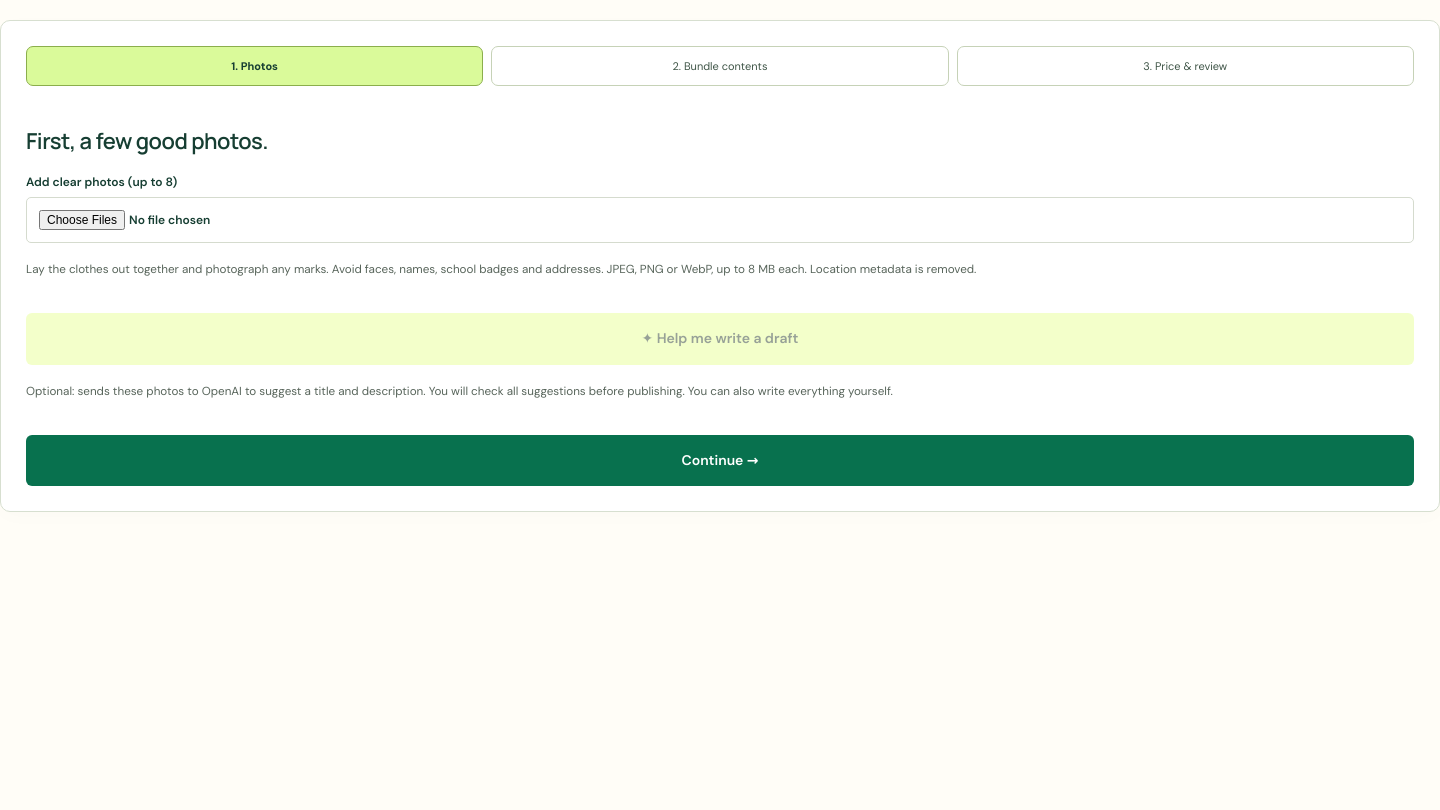
Test: Guided seller workflow › cannot advance without a real uploaded photo
This screenshot has width=1440, height=810.
Click the button "Continue →". click: coordinates (720, 460)
box: [26,435,1414,486]
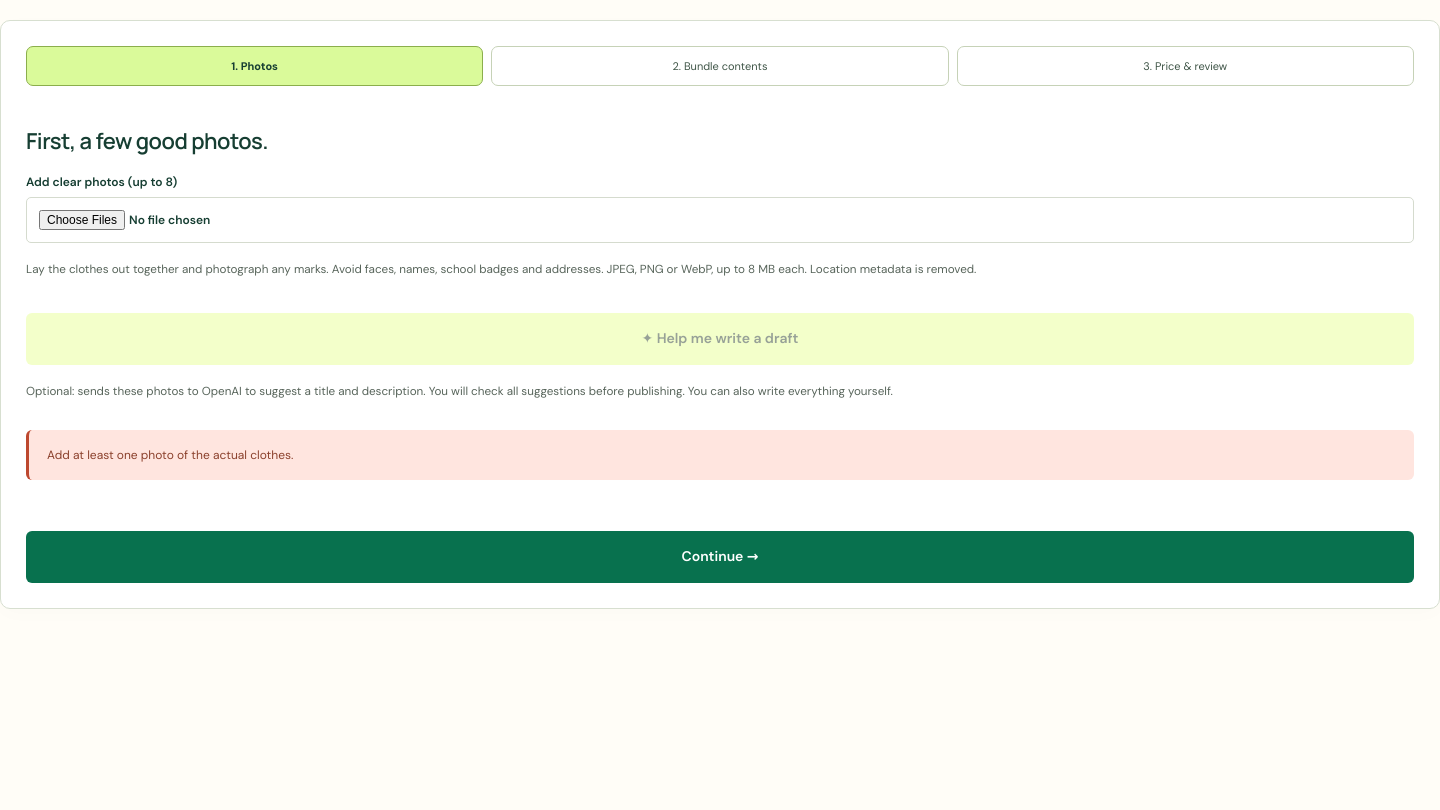
Now the message shows "actual clothes", box [47,447,293,463]
